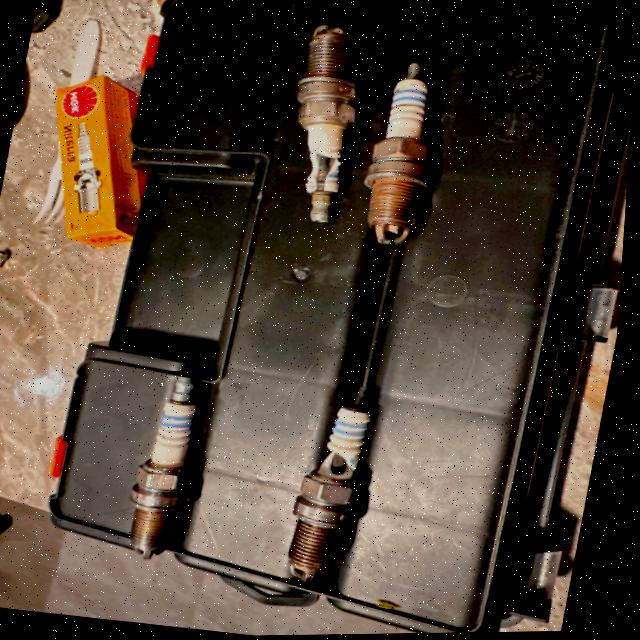damaged_spark-plug: (274, 368, 395, 594), (266, 20, 380, 233)
spark-plug: (345, 61, 452, 256), (126, 369, 219, 564)
